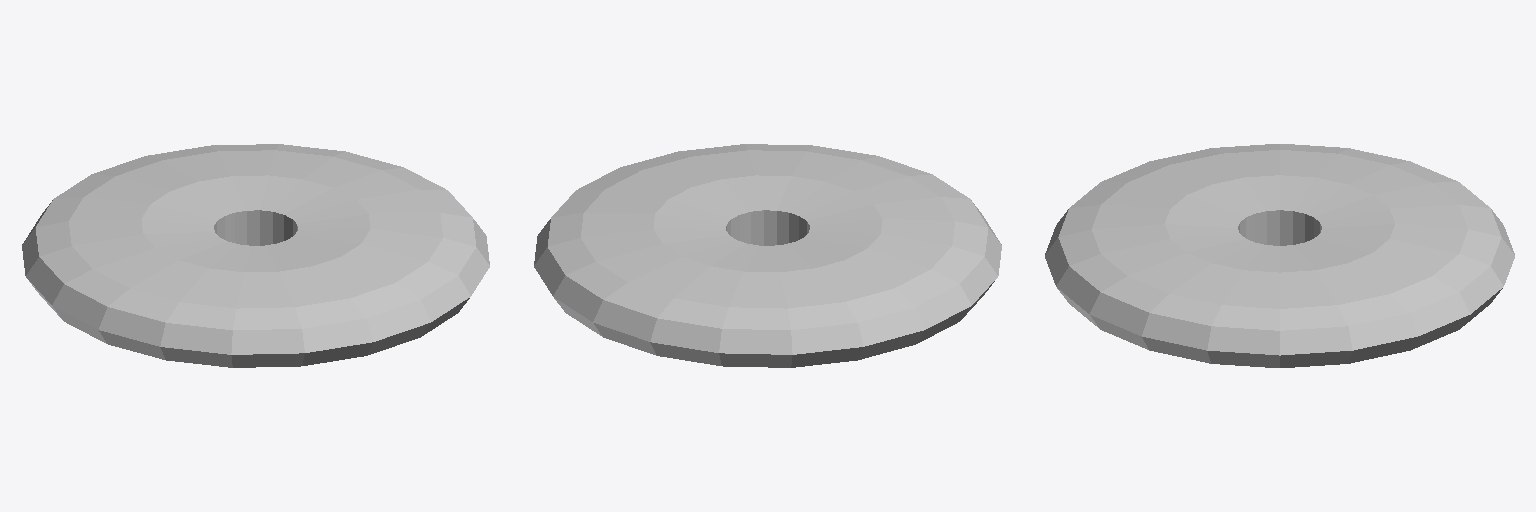
Rendered from BouncyDisc.obj.
The picture shows the model from 3 angles: view 1: azimuth 30°, elevation 25°; view 2: azimuth 150°, elevation 25°; view 3: azimuth 270°, elevation 25°; orthographic projection.
Visible parts, largest first — view 1: Torus; view 2: Torus; view 3: Torus.
Boxes of the visible parts, x1,y1,x2,y2 form: Torus: [22, 144, 489, 367]; Torus: [534, 144, 1001, 367]; Torus: [1045, 144, 1514, 367].
Bounding box in the file's own units: 0.9573 × 0.144 × 0.9573.